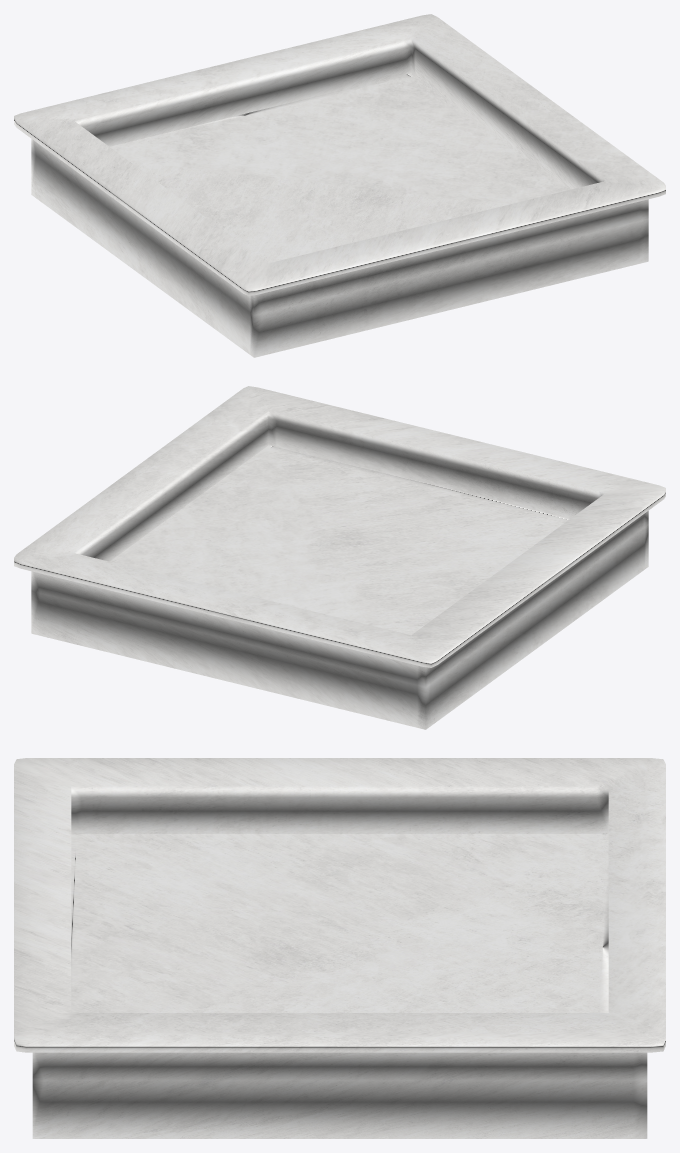
Rendered from basin.glb.
3 renders of one model, top to bottom at view 1: azimuth 30°, elevation 25°; view 2: azimuth 150°, elevation 25°; view 3: azimuth 270°, elevation 25°, orthographic. The views are drawn at different scales.
Parts seen in each view (by area): view 1: Cube.007; view 2: Cube.007; view 3: Cube.007.
Part boxes in pixels (x1=…): Cube.007: x1=14, y1=14, x2=665, y2=357; Cube.007: x1=14, y1=386, x2=665, y2=729; Cube.007: x1=14, y1=758, x2=665, y2=1138.
Size of the model in its own units: 6.46 by 1.13 by 6.29.
Materials: 1 (1 with a texture image).
